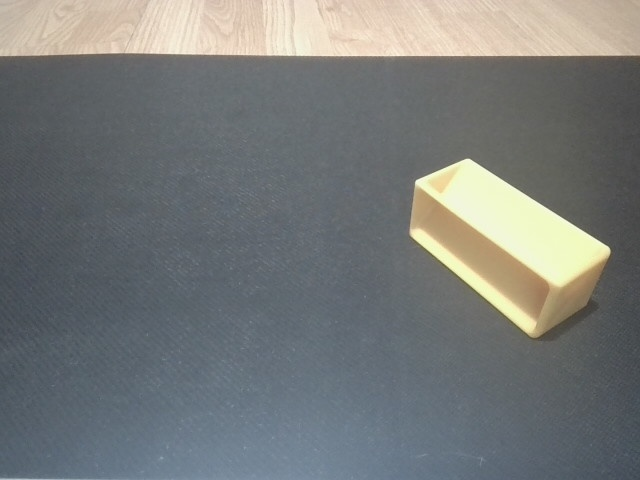YellowSample: (405, 156, 615, 344)
